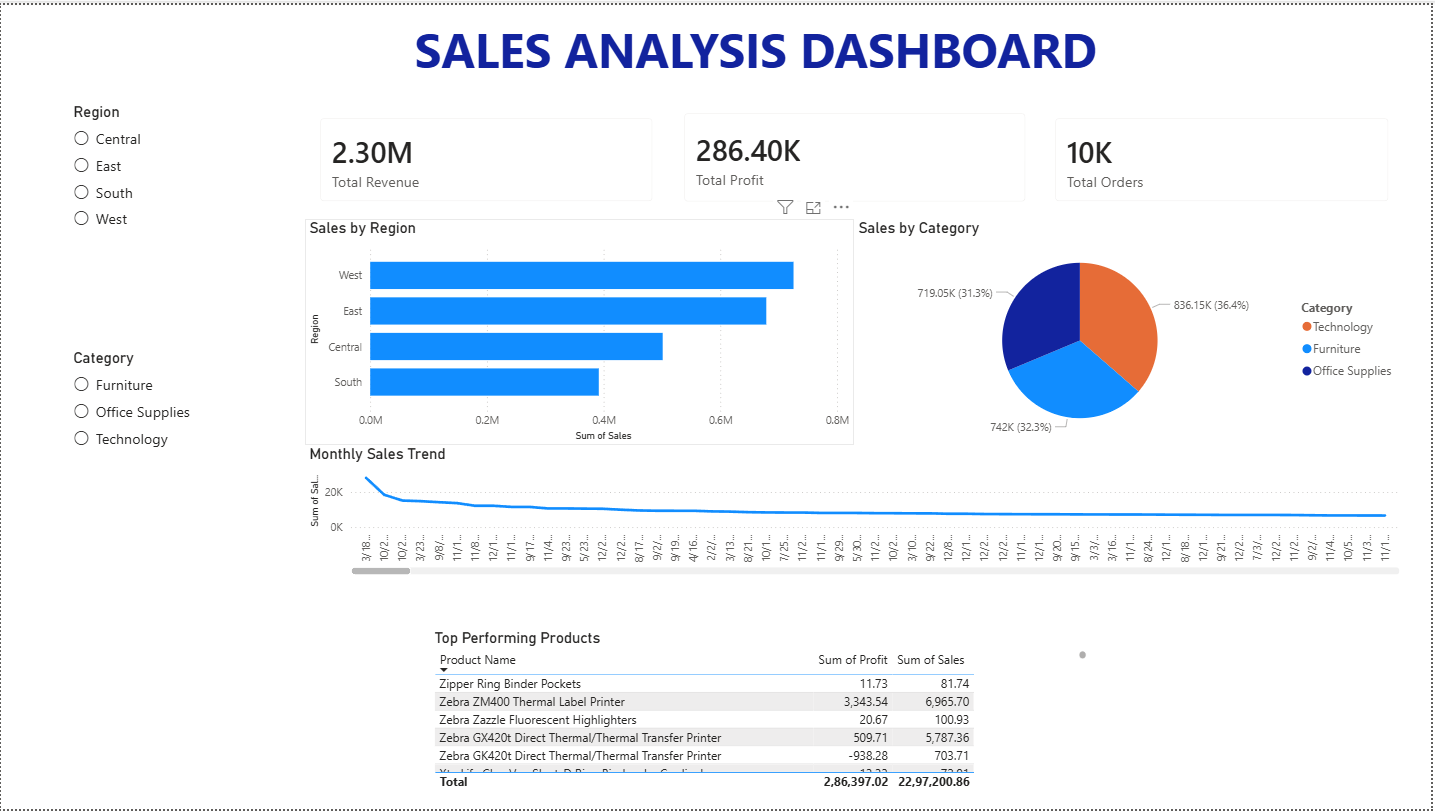

The dashboard page shown, as its layout file describes it:
{"tool":"powerbi","page":{"name":"Page 1","canvas":[1600,900],"ordinal":0},"visuals":[{"type":"cardVisual","fields":{"Data":["sales_data csv.Total Revenue"]},"box":[340.3,109.7,406.3,127.6],"z":0},{"type":"cardVisual","fields":{"Data":["sales_data csv.Total Profit"]},"box":[747.8,104.1,416.4,133.2],"z":1},{"type":"cardVisual","fields":{"Data":["sales_data csv.Total Orders"]},"box":[1163.1,109.7,407.5,127.6],"z":2},{"type":"barChart","title":"Sales by Region","fields":{"Category":["sales_data csv.Region"],"Y":["Sum(sales_data csv.Sales)"]},"box":[340.3,239.6,614.6,253],"z":3},{"type":"pieChart","title":"Sales by Category","fields":{"Category":["sales_data csv.Category"],"Y":["Sum(sales_data csv.Sales)"]},"box":[954.9,239.6,615.7,253],"z":4},{"type":"lineChart","title":"Monthly Sales Trend","fields":{"Category":["sales_data csv.Order Date"],"Y":["Sum(sales_data csv.Sales)"]},"box":[340.3,492.5,1230.2,150],"z":5},{"type":"tableEx","title":"Top Performing Products","fields":{"Values":["sales_data csv.Product Name","Sum(sales_data csv.Profit)","Sum(sales_data csv.Sales)"]},"box":[480.2,698.5,739.9,184.7],"z":6},{"type":"listSlicer","fields":{"Values":["sales_data csv.Region"]},"box":[76.1,109.7,256.3,267.5],"z":7},{"type":"listSlicer","fields":{"Values":["sales_data csv.Category"]},"box":[76.1,385.1,256.3,257.5],"z":8},{"type":"textbox","box":[457.8,7.8,804.9,80.6],"z":9}]}

Visuals, with their boxes in screenshot pixels (x1, y1, x2, y2), scaled from the page's 1600x900 canvas onto the 1435x812 screenshot:
cardVisual - sales_data csv.Total Revenue: x1=305 y1=99 x2=670 y2=214
cardVisual - sales_data csv.Total Profit: x1=671 y1=94 x2=1044 y2=214
cardVisual - sales_data csv.Total Orders: x1=1043 y1=99 x2=1409 y2=214
"Sales by Region" barChart: x1=305 y1=216 x2=856 y2=444
"Sales by Category" pieChart: x1=856 y1=216 x2=1409 y2=444
"Monthly Sales Trend" lineChart: x1=305 y1=444 x2=1409 y2=580
"Top Performing Products" tableEx: x1=431 y1=630 x2=1094 y2=797
listSlicer - sales_data csv.Region: x1=68 y1=99 x2=298 y2=340
listSlicer - sales_data csv.Category: x1=68 y1=347 x2=298 y2=580
textbox: x1=411 y1=7 x2=1132 y2=80
